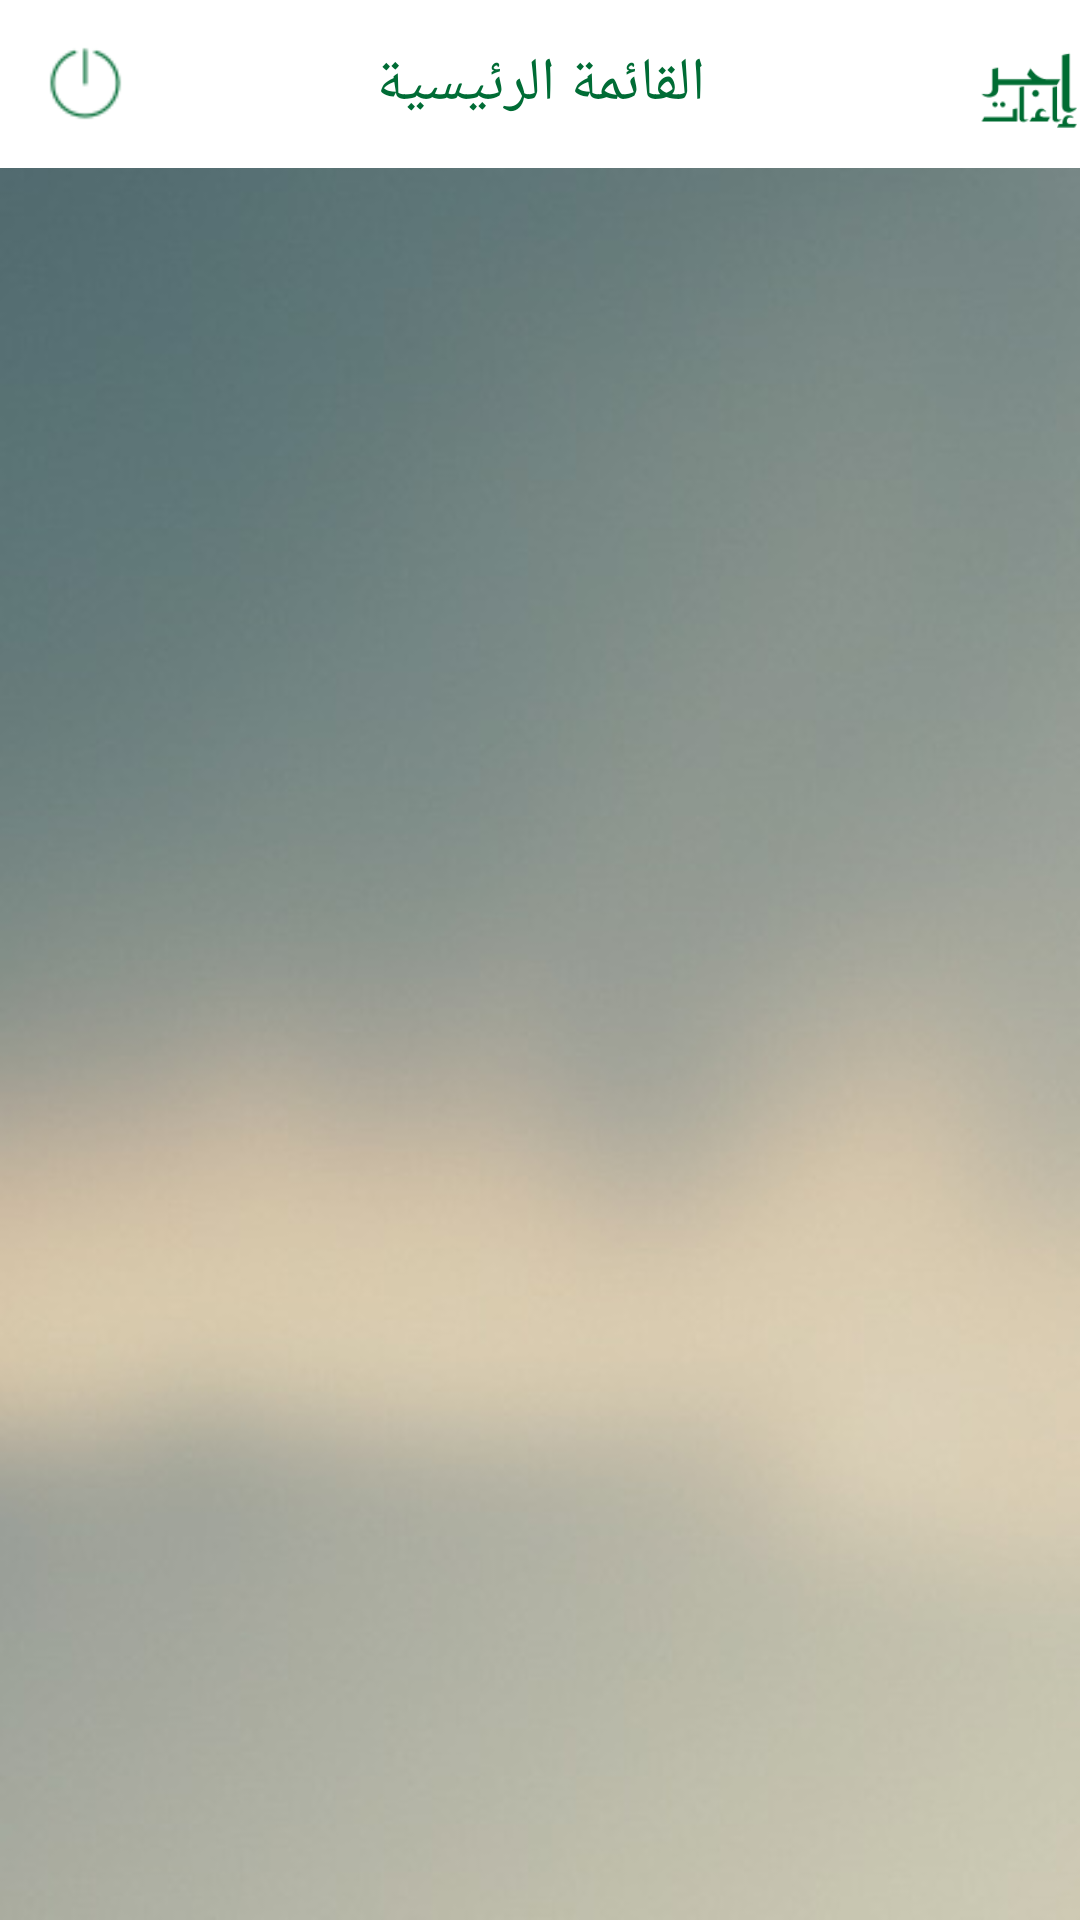

Icons on this 1080 x 1920 Android screen, each with the point to tap as (x,y):
shutdown: (85,83)
